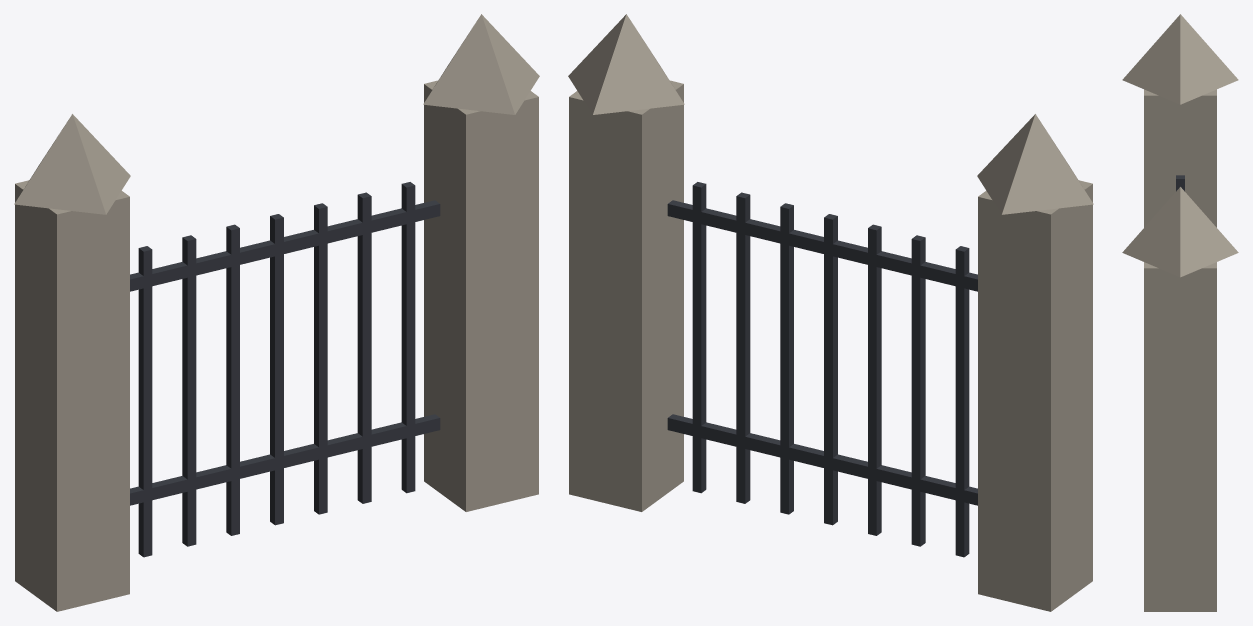
Rendered from graveyard_gate.glb.
3 renders of one model, left to right at view 1: azimuth 30°, elevation 25°; view 2: azimuth 150°, elevation 25°; view 3: azimuth 270°, elevation 25°, orthographic. The views are drawn at different scales.
Parts seen in each view (by area): view 1: graveyard_gate; view 2: graveyard_gate; view 3: graveyard_gate.
Part boxes in pixels (<box>): graveyard_gate: <box>14,14,539,611</box>; graveyard_gate: <box>568,14,1093,611</box>; graveyard_gate: <box>1122,14,1238,611</box>.
Bounding box in the file's own units: 3.6 × 3.1 × 0.8.
